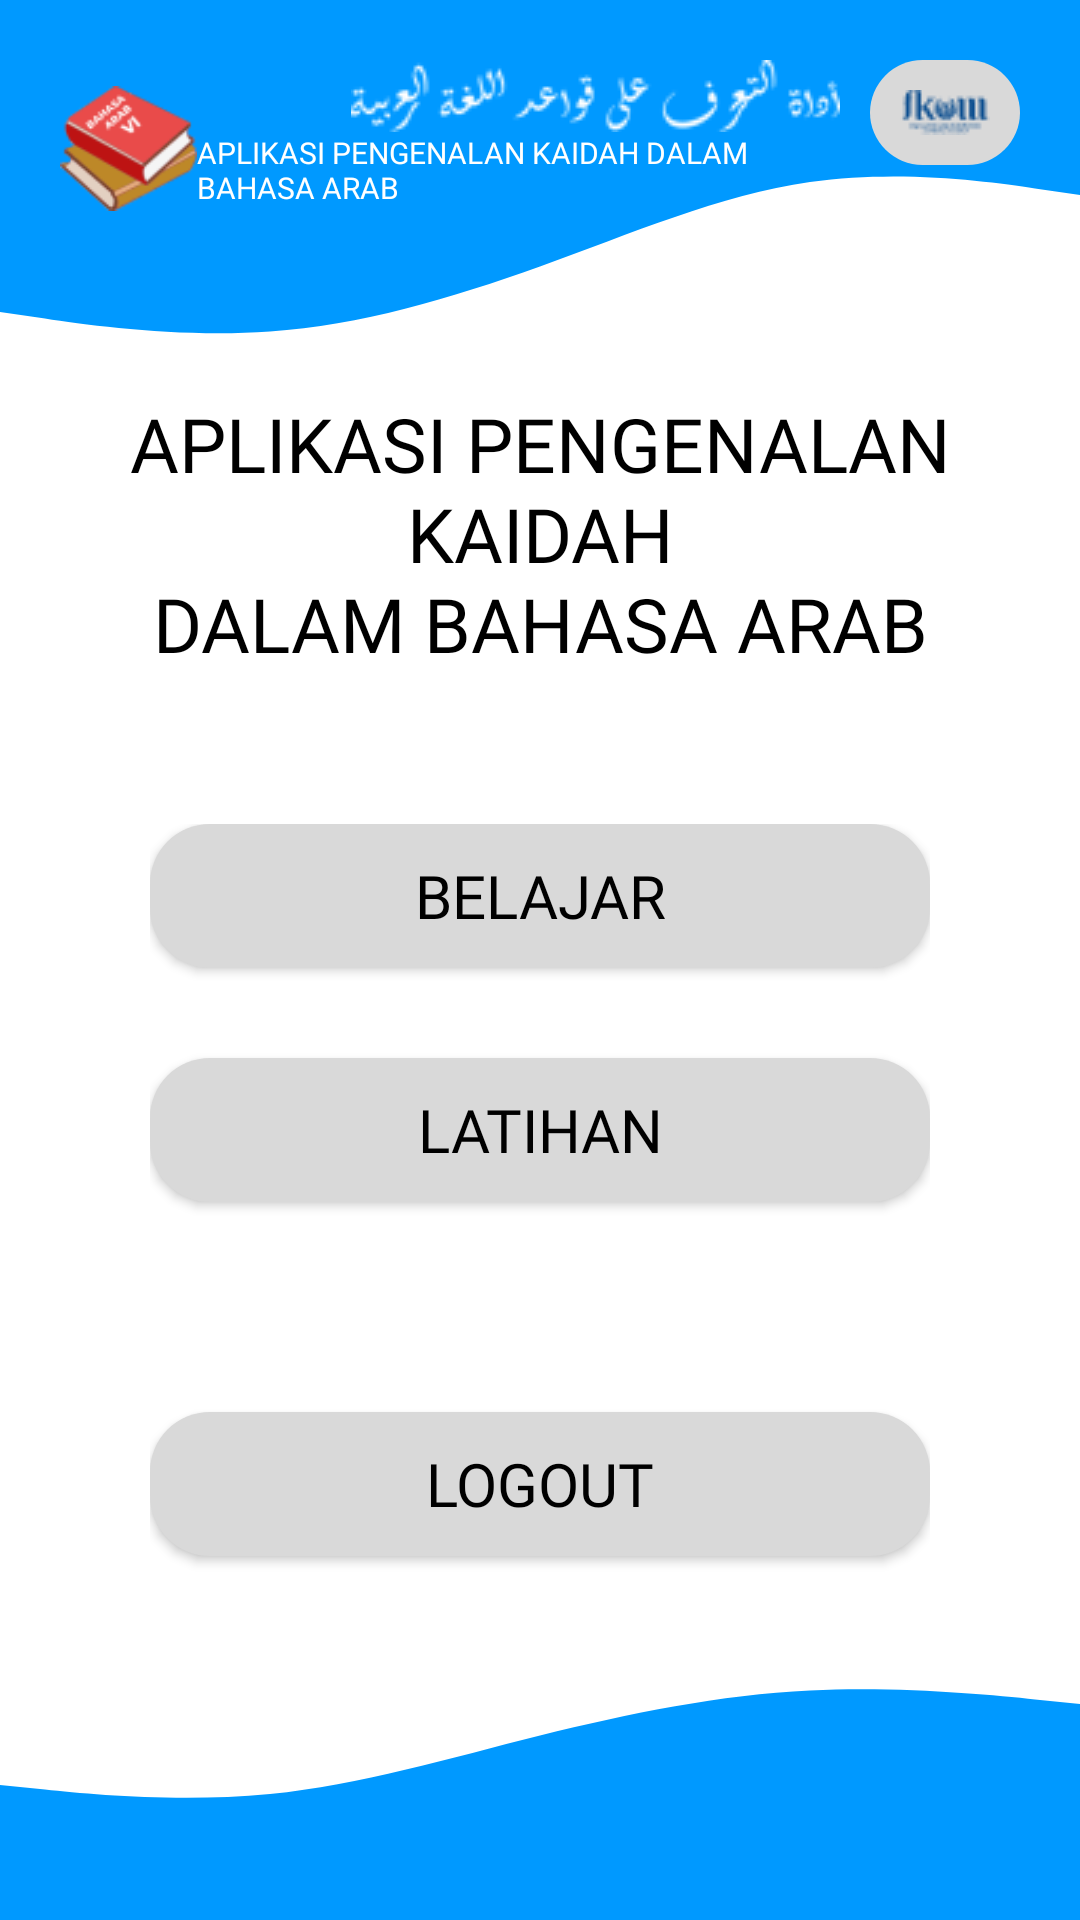

Icon bounding boxes for this 1080 × 1920 phone screenshot, format (x1, y1, x2, y2):
buku: (60, 86, 197, 211)
